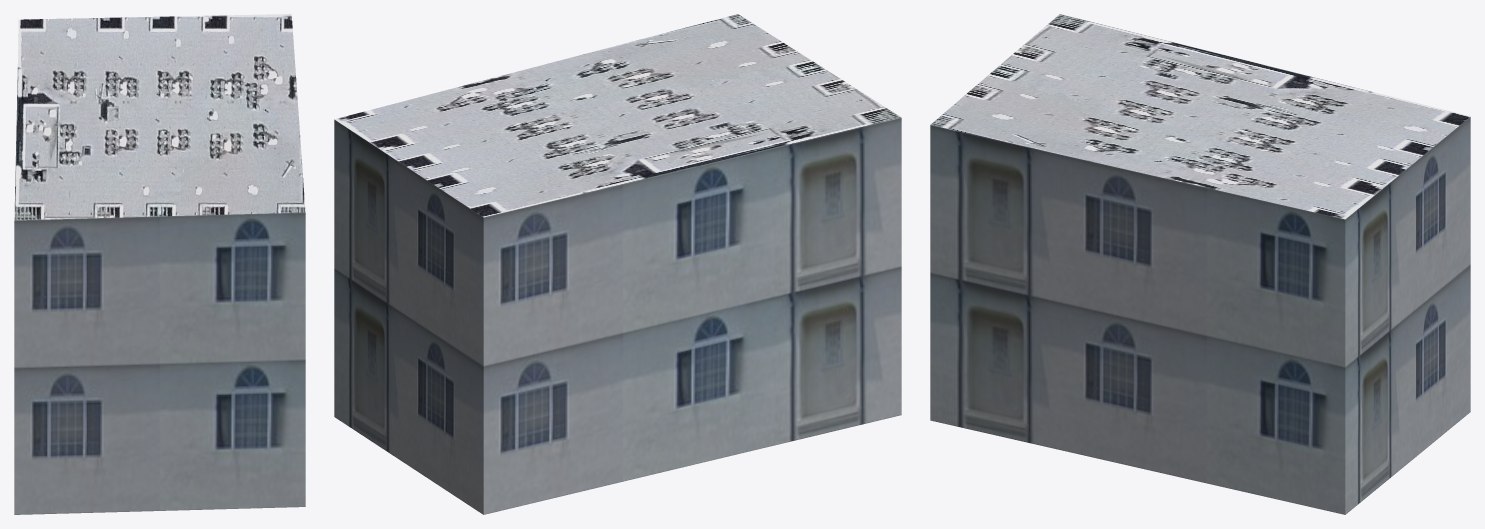
Rendered from ResTex__1053.fbx.
3 renders of one model, left to right at view 1: azimuth 30°, elevation 25°; view 2: azimuth 150°, elevation 25°; view 3: azimuth 270°, elevation 25°, orthographic.
Visible parts, largest first — view 1: CityEngineMaterial_17_m, CityEngineMaterial_m; view 2: CityEngineMaterial_17_m, CityEngineMaterial_m; view 3: CityEngineMaterial_17_m, CityEngineMaterial_m.
Boxes of the visible parts, box(x1,y1,x2,y2) form: CityEngineMaterial_17_m: box(14, 212, 305, 514); CityEngineMaterial_m: box(14, 14, 305, 220); CityEngineMaterial_17_m: box(334, 117, 901, 514); CityEngineMaterial_m: box(334, 14, 901, 217); CityEngineMaterial_17_m: box(930, 117, 1470, 514); CityEngineMaterial_m: box(930, 14, 1470, 219).
Size of the model in its own units: 8.95 by 6 by 9.95.
Materials: 2 (2 with a texture image).
